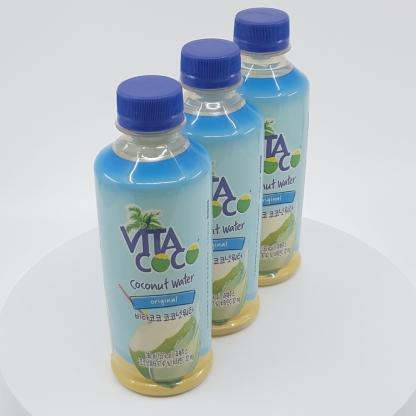----------280ml: (93, 75, 214, 398), (156, 38, 265, 338), (217, 7, 309, 287)
